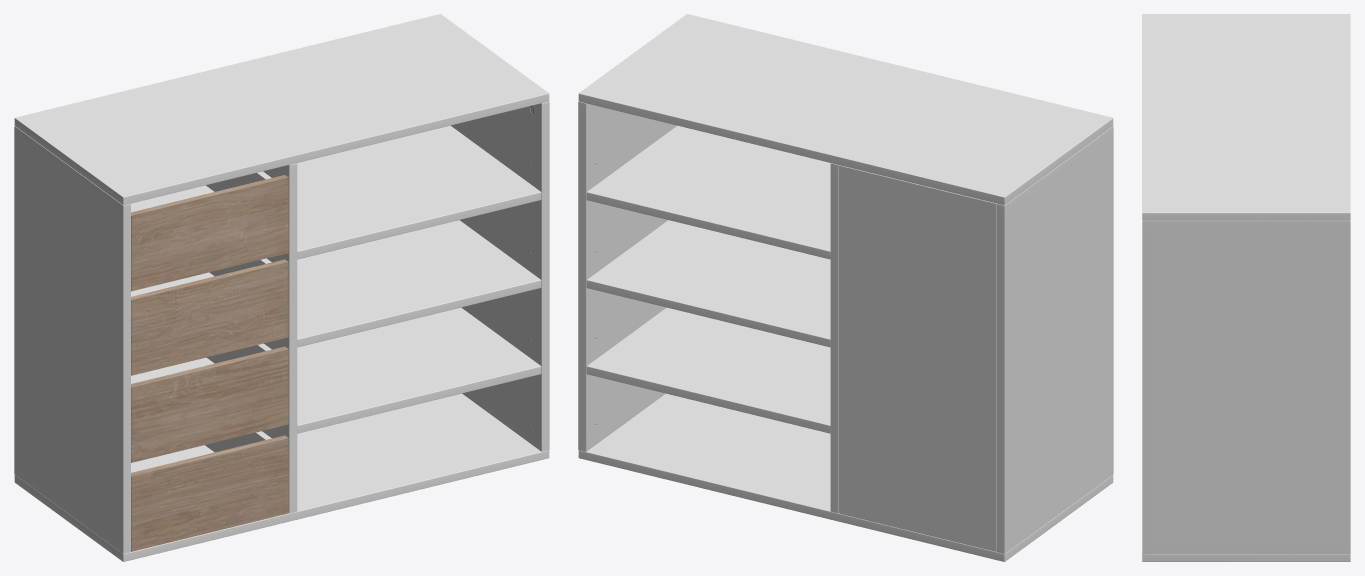
Rendered from abo-B07QY2XJD6.glb.
3 renders of one model, left to right at view 1: azimuth 30°, elevation 25°; view 2: azimuth 150°, elevation 25°; view 3: azimuth 270°, elevation 25°, orthographic. The views are drawn at different scales.
Bounding box in the file's own units: 0.895 × 0.732 × 0.396.
Materials: 1 (1 with a texture image).
